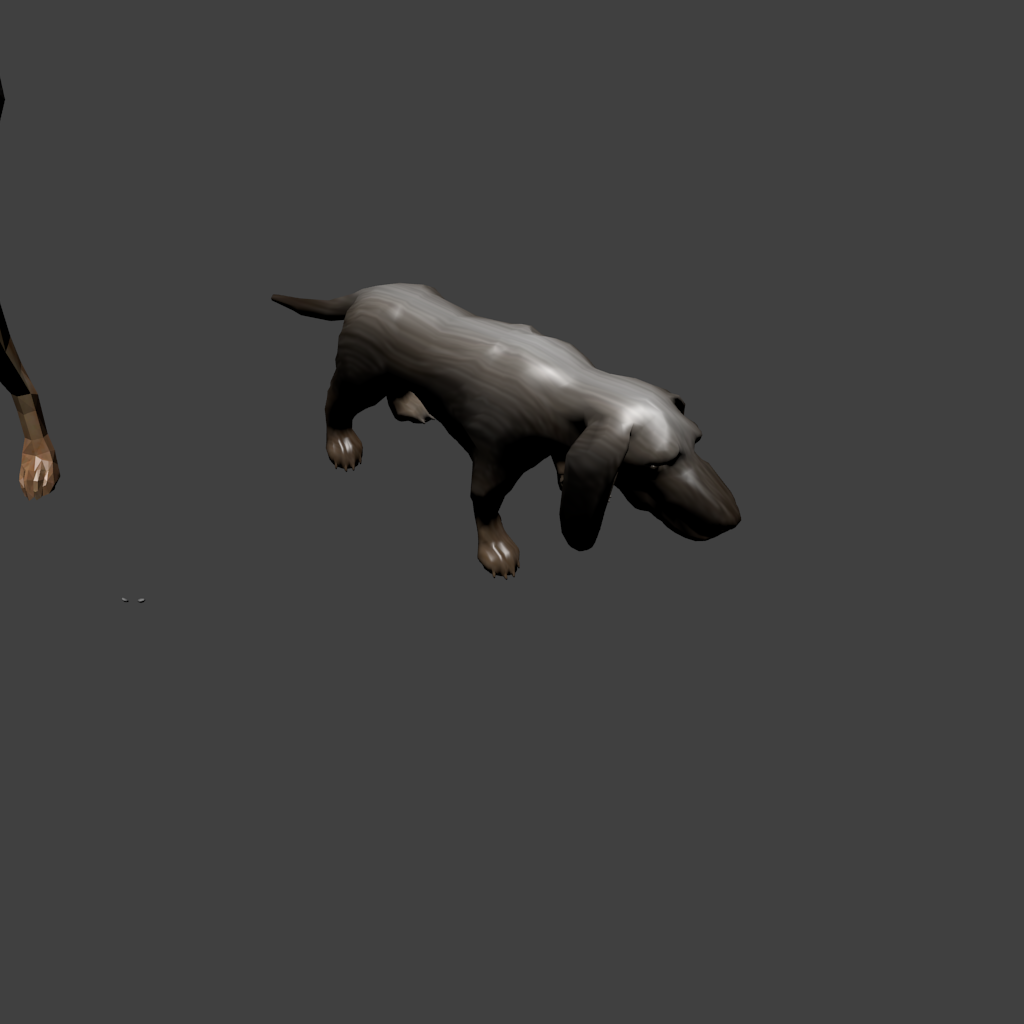Dog: (0, 21, 61, 714), (271, 283, 470, 297)
